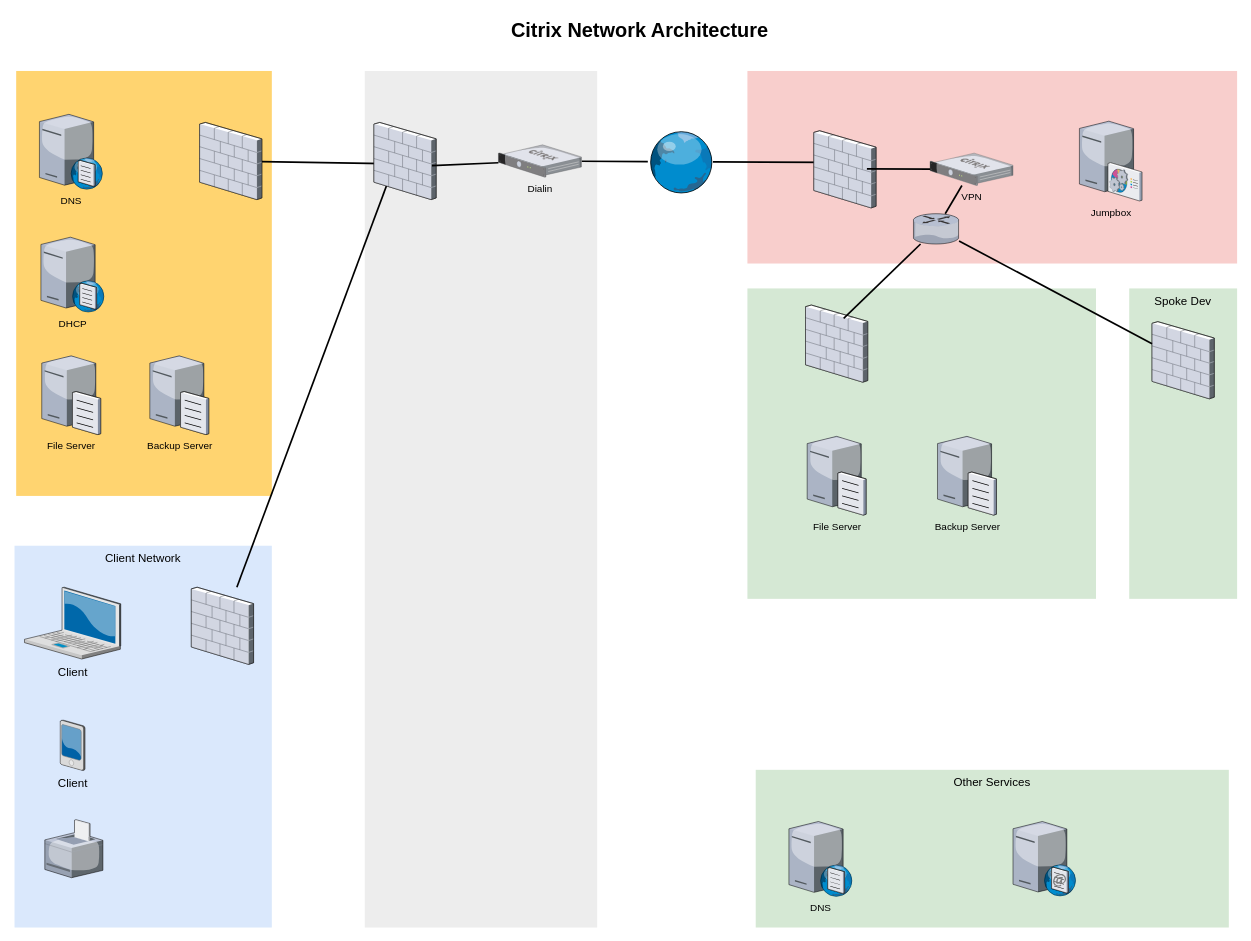
Some shapes in this 1251 by 941 pixel diagram are drawn without their labels. The box of each missing label's shape, as (x1, y1, x2, y2) in pixels:
Citrix XenApp Server Farm with firewalls: (364, 71, 597, 927)
Outside Networks: (747, 71, 1237, 263)
Printer: (44, 819, 103, 877)
Server Network: (16, 71, 271, 496)
SMTP: (1013, 819, 1076, 896)
Spoke Prod: (747, 288, 1096, 598)
THE Internet: (647, 130, 713, 193)
